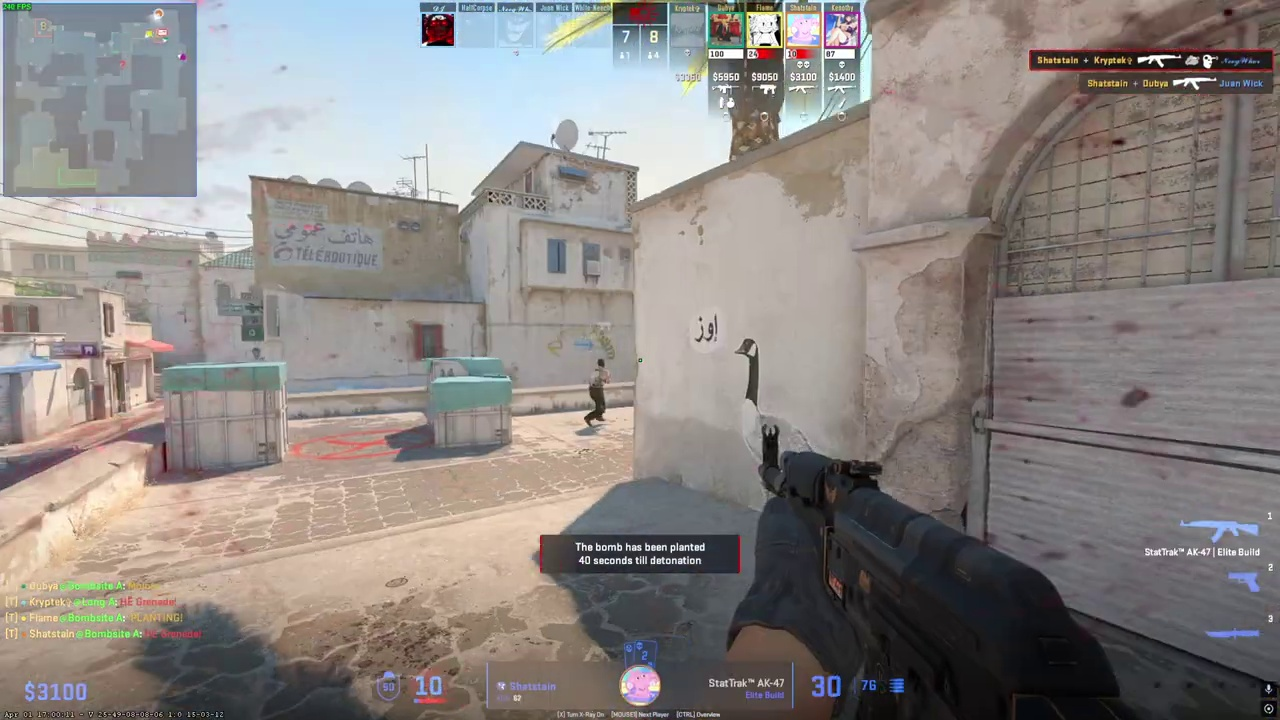Terrorist: (584, 359, 611, 426)
